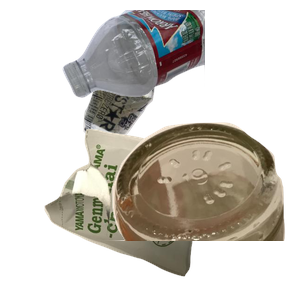glass: (89, 120, 300, 300)
metal: (81, 41, 234, 178)
plastic: (60, 10, 300, 100)
trash: (42, 126, 249, 300)
